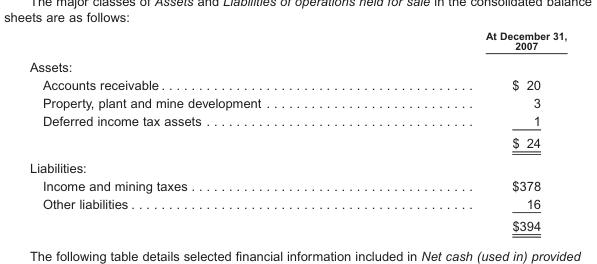table: (28, 29, 566, 232)
table column: (28, 29, 372, 232), (372, 29, 566, 232)
table column header: (28, 29, 566, 55)
table projected row header: (28, 154, 566, 176), (28, 55, 566, 75)
table row: (28, 29, 566, 55), (28, 131, 566, 154), (28, 154, 566, 176), (28, 55, 566, 75), (28, 111, 566, 131), (28, 194, 566, 214), (28, 75, 566, 93), (28, 93, 566, 111), (28, 176, 566, 194), (28, 214, 566, 232)
